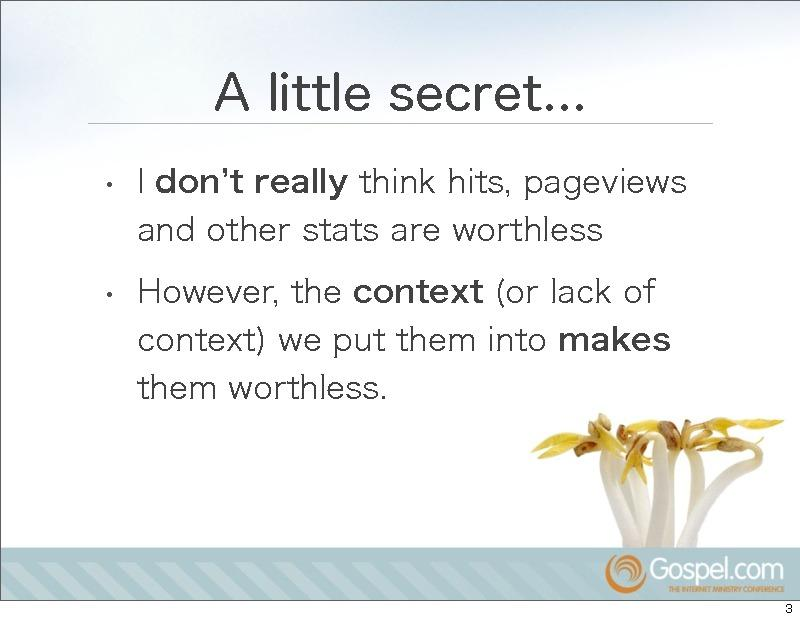paragraph: (129, 138, 731, 465)
title: (204, 55, 629, 138)
